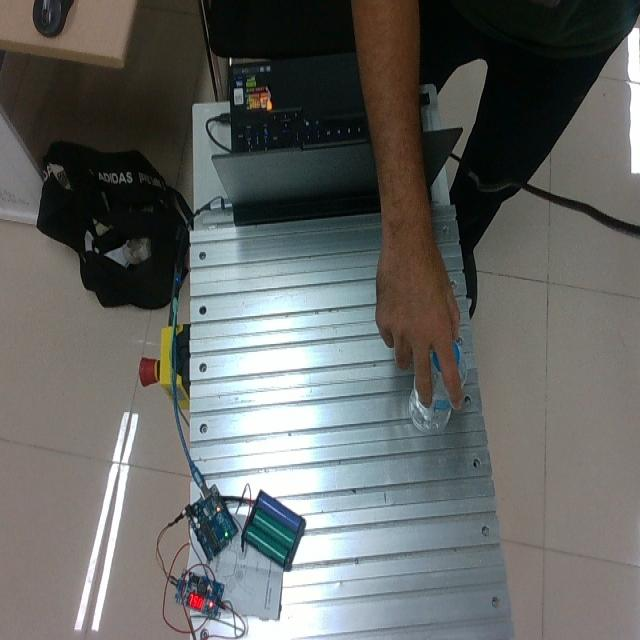lavie: (409, 340, 467, 432)
